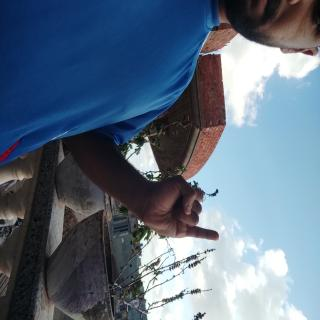MEEM: (131, 129, 184, 246)
